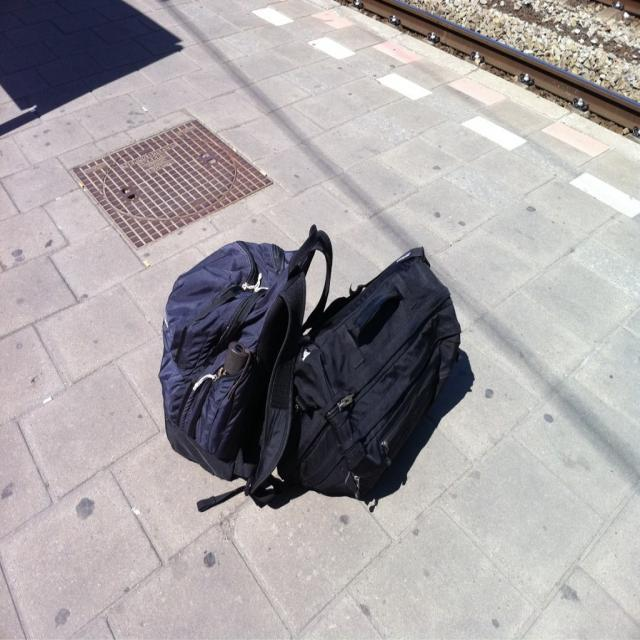Backpacks: (156, 224, 300, 480)
